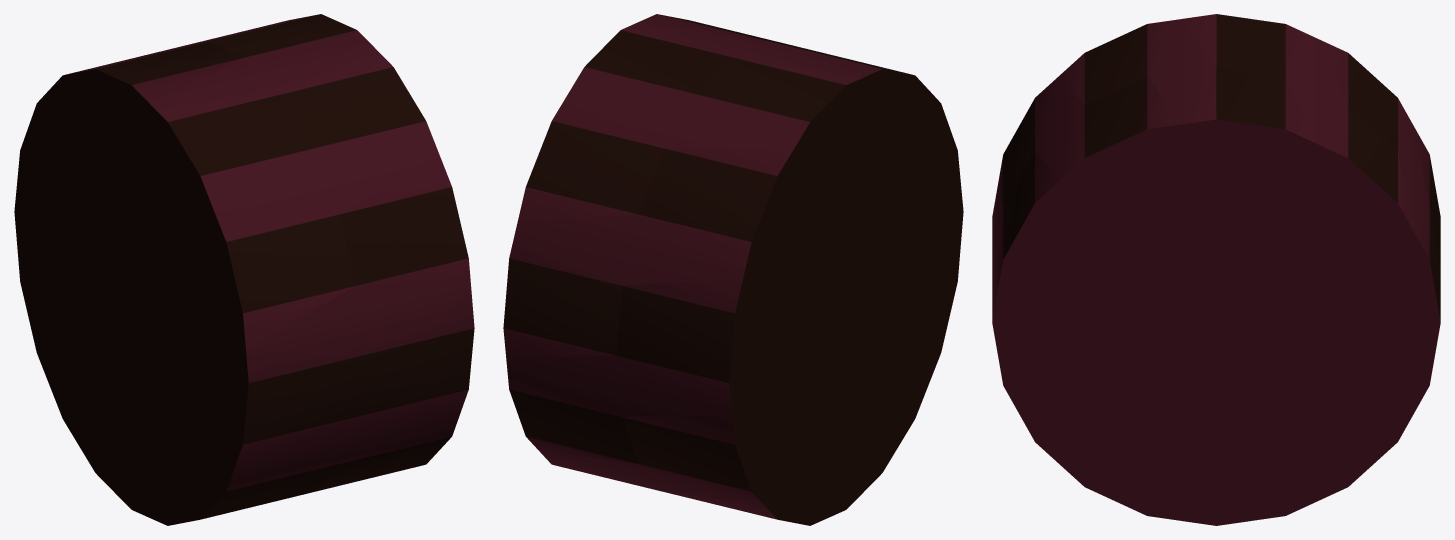
The model's file is perillaD.obj.
3 views of the same model, side by side, from view 1: azimuth 30°, elevation 25°; view 2: azimuth 150°, elevation 25°; view 3: azimuth 270°, elevation 25° (orthographic). The views are drawn at different scales.
Parts seen in each view (by area): view 1: polySurface207 polySurface191; view 2: polySurface207 polySurface191; view 3: polySurface207 polySurface191.
Boxes of the visible parts, bbox=[...] form: polySurface207 polySurface191: bbox=[14, 14, 474, 525]; polySurface207 polySurface191: bbox=[503, 14, 963, 525]; polySurface207 polySurface191: bbox=[992, 14, 1440, 525].
Size of the model in its own units: 0.1448 by 0.2601 by 0.2601.
Materials: 1 (1 with a texture image).
